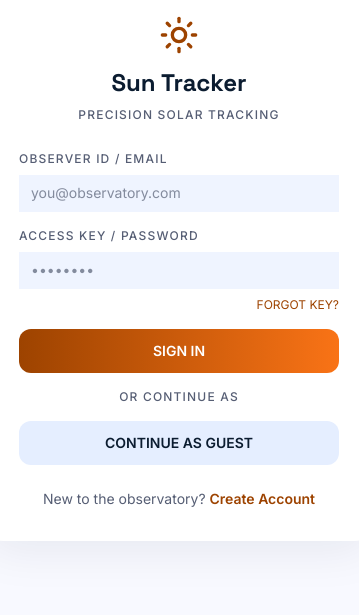
Test case: LoginForm › shows sign-in error when auth fails
The image size is (359, 615).
Type "sun@chrono.com" into the field labelled "Observer ID / Email" at (179, 194), box top-left (19, 175), bottom-right (339, 212)
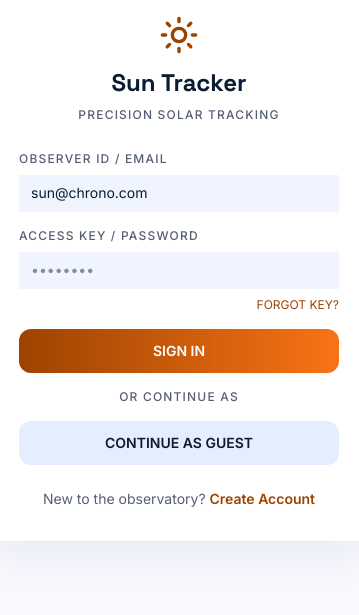
Type "wrong" into the password field labelled "Access Key / Password" at (179, 270), box top-left (19, 252), bottom-right (339, 289)
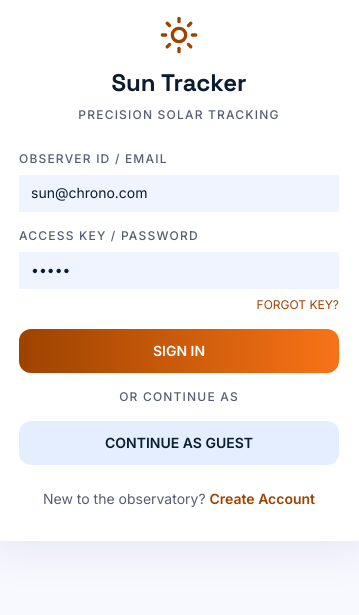
Submit the form "SIGN IN", box top-left (19, 151), bottom-right (339, 373)
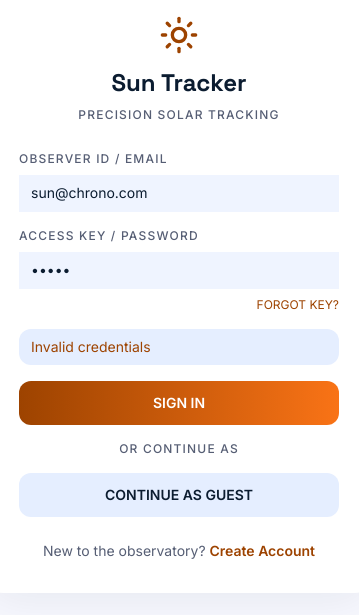
Check: the message reads "Invalid credentials", box top-left (31, 338), bottom-right (151, 355)
